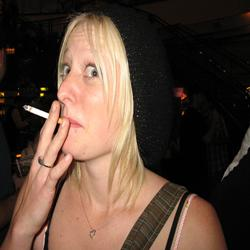smoking: (18, 102, 74, 196)
